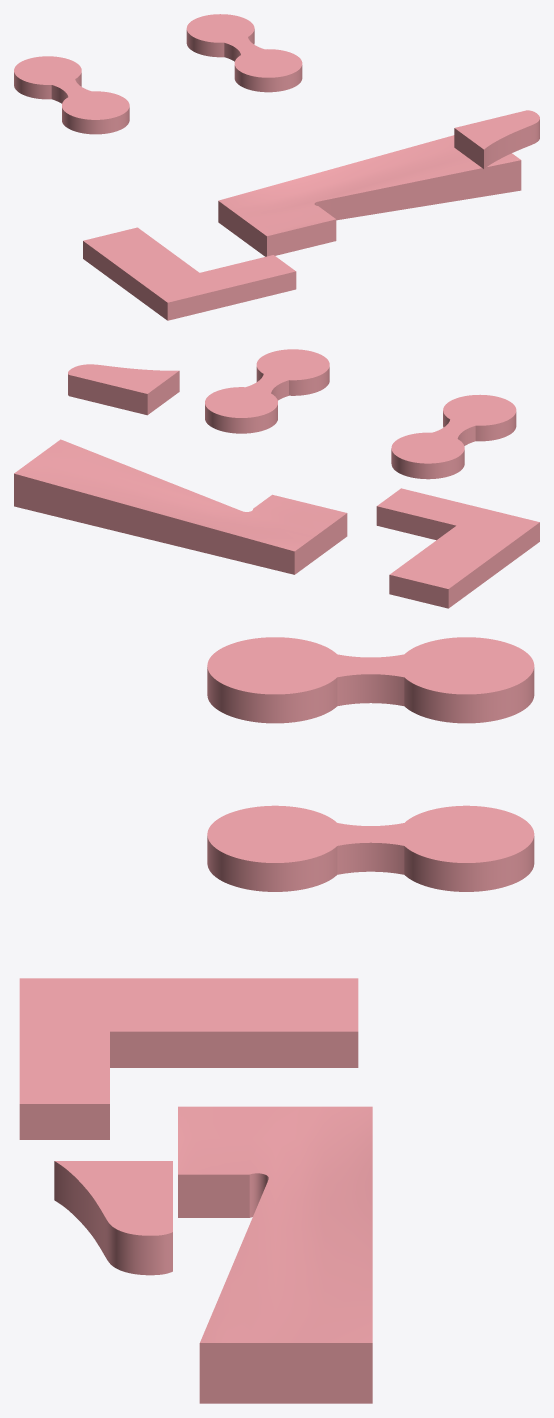
File: optical_gallery.gltf
3 views of the same model, one above another, from view 1: azimuth 30°, elevation 25°; view 2: azimuth 150°, elevation 25°; view 3: azimuth 270°, elevation 25° (orthographic). The views are drawn at different scales.
Bounding box in the file's own units: 91.19 × 33.81 × 46.26.
